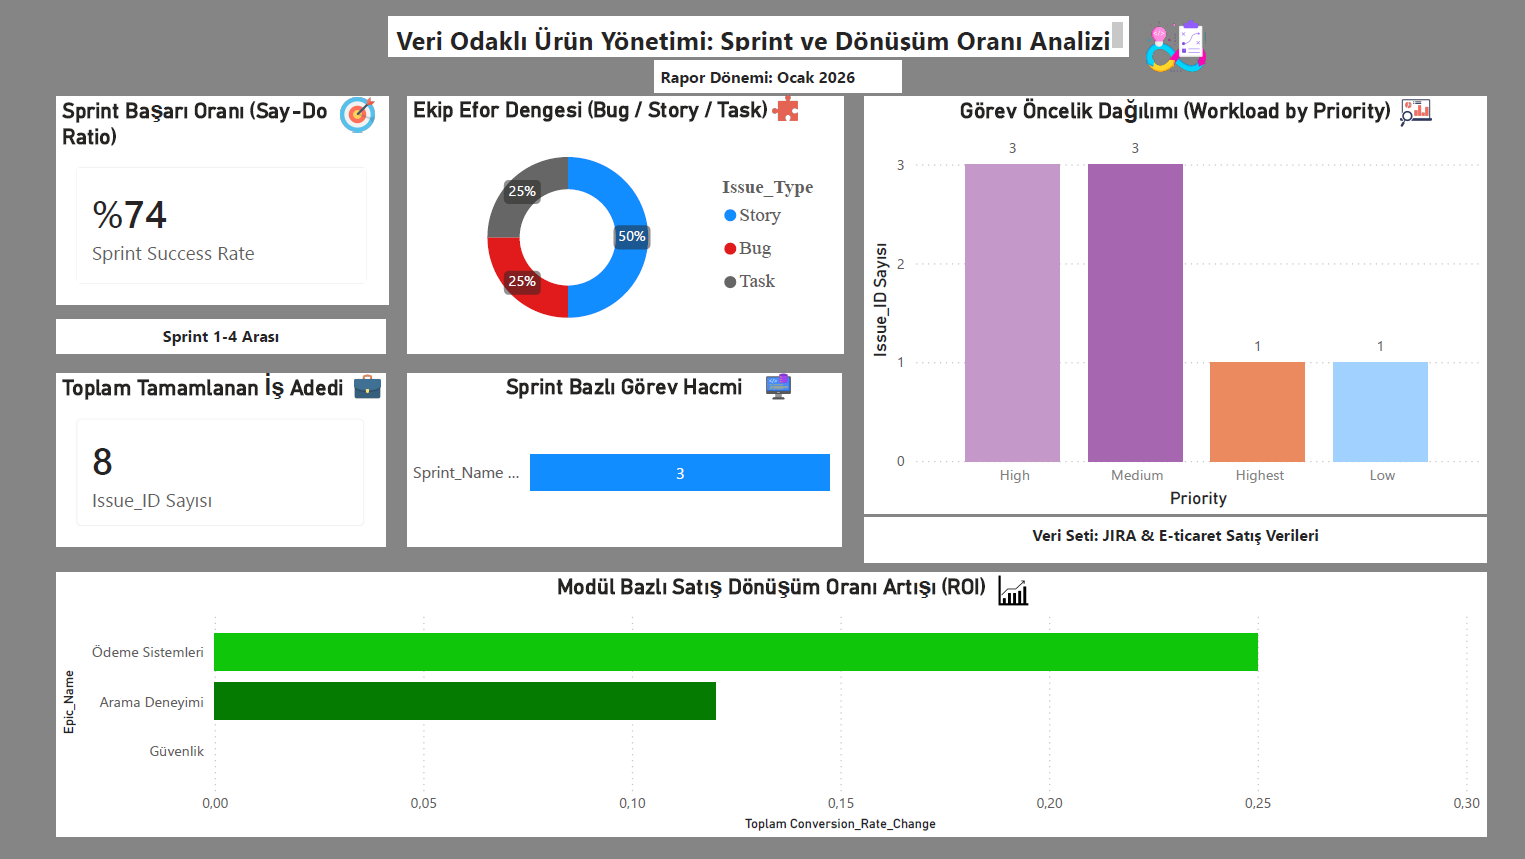

The dashboard page shown, as its layout file describes it:
{"tool":"powerbi","page":{"name":"1. sayfa","canvas":[1280,720],"ordinal":0},"visuals":[{"type":"barChart","title":"Modül Bazlı Satış Dönüşüm Oranı Artışı (ROI)","fields":{"Y":["Sum(Impact.Conversion_Rate_Change)"],"Category":["Impact.Epic_Name"]},"box":[49.4,480.3,1197.9,220.9],"z":0},{"type":"cardVisual","title":"Sprint Başarı Oranı        (Say-Do Ratio)","fields":{"Data":["Sprints.Sprint Success Rate"]},"box":[49.4,81,277.2,174.3],"z":1000},{"type":"donutChart","title":"Ekip Efor Dengesi (Bug / Story / Task)","fields":{"Category":["Backlog.Issue_Type"],"Y":["CountNonNull(Backlog.Issue_ID)"]},"box":[343.1,81,365,215.4],"z":2000},{"type":"cardVisual","title":"Toplam Tamamlanan İş Adedi","fields":{"Data":["Count(Backlog.Issue_ID)"]},"box":[49.4,312.9,275.8,145.5],"z":2001},{"type":"funnel","title":"Sprint Bazlı Görev Hacmi","fields":{"Y":["CountNonNull(Sprints.Sprint_Name)"]},"box":[343.1,312.9,363.6,145.5],"z":2002},{"type":"columnChart","title":"Görev Öncelik Dağılımı (Workload by Priority)","fields":{"Category":["Backlog.Priority"],"Y":["Count(Backlog.Issue_ID)"]},"box":[725.9,81,521.4,348.5],"z":2003},{"type":"textbox","box":[326.6,13.7,620.2,34.3],"z":2004},{"type":"image","box":[286.8,75.5,28.8,41.2],"z":2006},{"type":"textbox","box":[725.9,433.6,521.4,37],"z":2007},{"type":"image","box":[1155.4,82.3,65.9,26.1],"z":2008},{"type":"image","box":[824.7,480.3,50.8,28.8],"z":2009},{"type":"image","box":[649.1,64.5,20.6,52.1],"z":2010},{"type":"image","box":[277.2,312.9,65.9,22],"z":2011},{"type":"image","box":[636.7,312.9,32.9,22],"z":2013},{"type":"image","box":[937.2,13.7,98.8,50.8],"z":2014},{"type":"textbox","box":[550.3,50.8,207.2,27.4],"z":2015},{"type":"textbox","box":[49.4,267.6,275.8,28.8],"z":2016}]}

Visuals, with their boxes in screenshot pixels (x1, y1, x2, y2), scaled from the page's 1280x720 canvas onto the 1525x859 screenshot:
"Modül Bazlı Satış Dönüşüm Oranı Artışı (ROI)" barChart: x1=59, y1=573, x2=1486, y2=837
"Sprint Başarı Oranı        (Say-Do Ratio)" cardVisual: x1=59, y1=97, x2=389, y2=305
"Ekip Efor Dengesi (Bug / Story / Task)" donutChart: x1=409, y1=97, x2=844, y2=354
"Toplam Tamamlanan İş Adedi" cardVisual: x1=59, y1=373, x2=387, y2=547
"Sprint Bazlı Görev Hacmi" funnel: x1=409, y1=373, x2=842, y2=547
"Görev Öncelik Dağılımı (Workload by Priority)" columnChart: x1=865, y1=97, x2=1486, y2=512
textbox: x1=389, y1=16, x2=1128, y2=57
image: x1=342, y1=90, x2=376, y2=139
textbox: x1=865, y1=517, x2=1486, y2=561
image: x1=1377, y1=98, x2=1455, y2=129
image: x1=983, y1=573, x2=1043, y2=607
image: x1=773, y1=77, x2=798, y2=139
image: x1=330, y1=373, x2=409, y2=400
image: x1=759, y1=373, x2=798, y2=400
image: x1=1117, y1=16, x2=1234, y2=77
textbox: x1=656, y1=61, x2=902, y2=93
textbox: x1=59, y1=319, x2=387, y2=354
